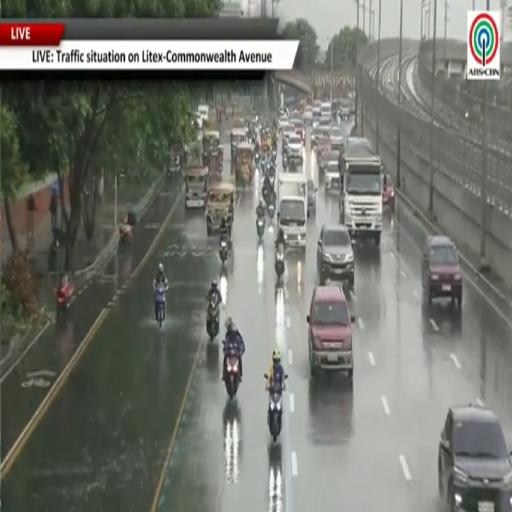car: (438, 405, 511, 511), (307, 284, 354, 380), (422, 235, 462, 309), (317, 224, 354, 289), (383, 173, 395, 212), (318, 149, 338, 171), (324, 162, 339, 191), (344, 136, 372, 151), (287, 135, 303, 161), (307, 179, 317, 215), (282, 123, 294, 152), (330, 126, 344, 150), (293, 120, 305, 143), (310, 127, 323, 148), (312, 101, 321, 126), (340, 100, 350, 120), (303, 106, 312, 124), (279, 115, 288, 131), (291, 110, 302, 122)
jeepney: (207, 183, 235, 236), (185, 167, 208, 209), (203, 131, 223, 172), (236, 142, 254, 185), (231, 127, 247, 161)
motorcycle: (268, 388, 284, 442), (224, 350, 239, 398), (57, 282, 73, 315), (207, 299, 219, 341), (155, 284, 166, 328), (119, 223, 133, 245), (275, 244, 284, 278), (219, 238, 227, 263), (256, 217, 264, 238), (267, 203, 275, 219), (271, 150, 276, 163), (255, 152, 260, 165), (283, 154, 287, 169)
truck: (340, 148, 383, 246), (277, 173, 307, 250)
